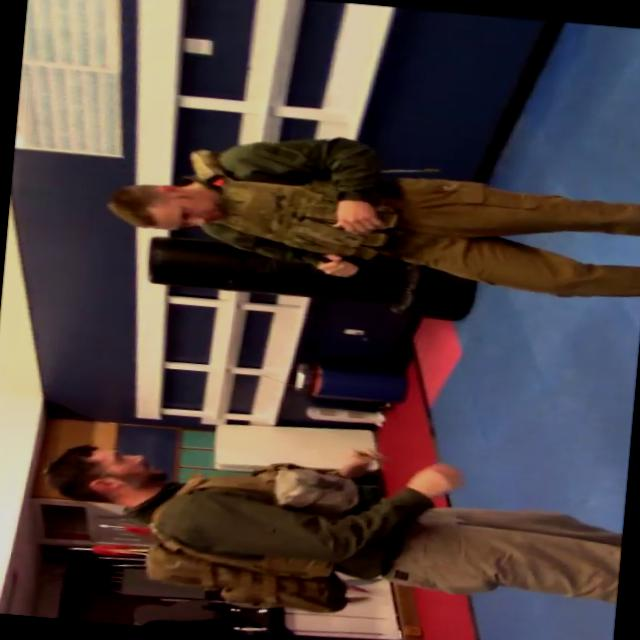knife: (313, 248, 414, 277)
